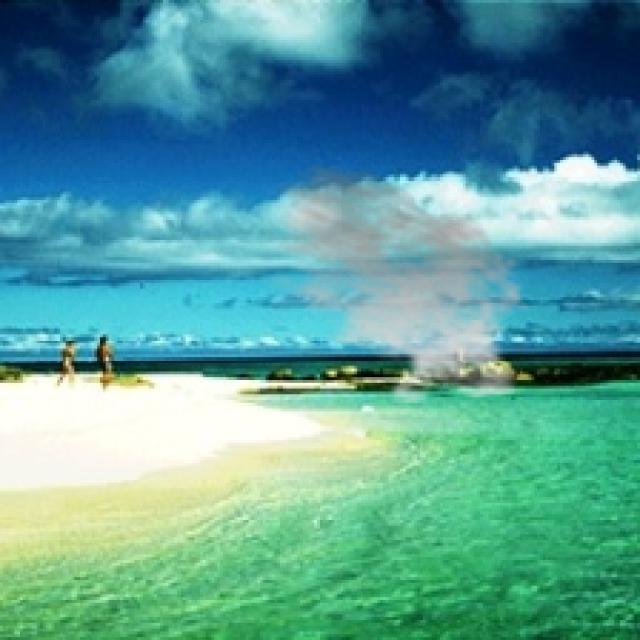smoke: (252, 163, 534, 406)
